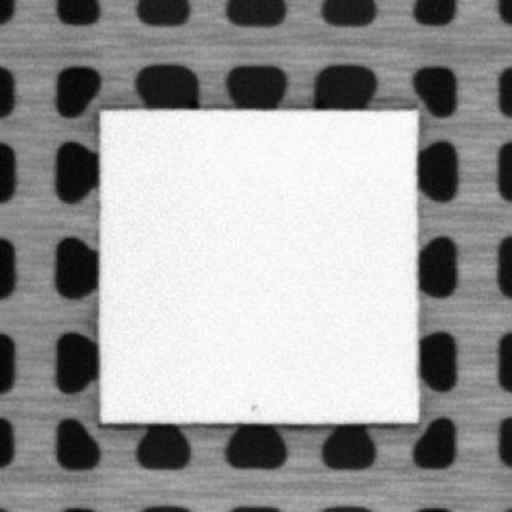DIE_INK: (245, 400, 260, 411)
